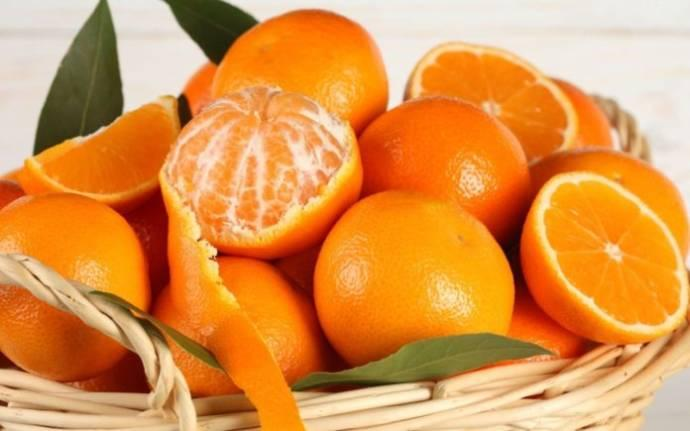orange: (315, 190, 522, 371), (167, 84, 365, 262), (1, 194, 155, 394), (530, 174, 690, 355)
